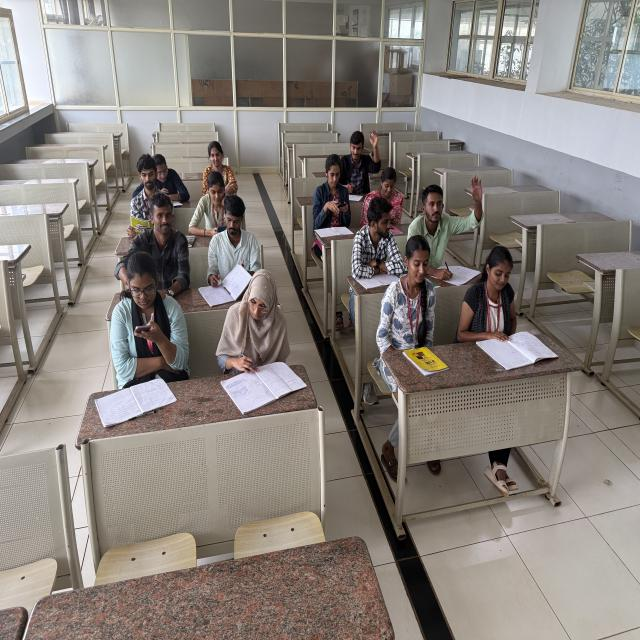Hand Rising: (106, 246, 190, 373), (458, 243, 530, 347), (420, 166, 486, 261), (344, 124, 381, 190)
Reading: (126, 153, 168, 239), (149, 150, 192, 207)
Using Phone: (311, 152, 352, 223), (191, 169, 233, 238), (370, 165, 406, 227)
Writing: (217, 266, 295, 383), (203, 189, 267, 297)
